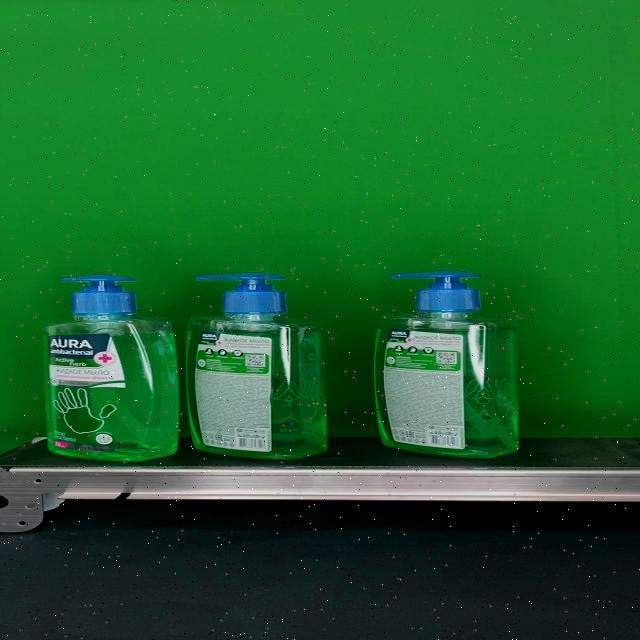Bottle: (373, 269, 519, 458), (186, 271, 327, 459), (44, 273, 180, 461)
Cap: (194, 271, 286, 314), (390, 270, 482, 312), (56, 273, 136, 314)
